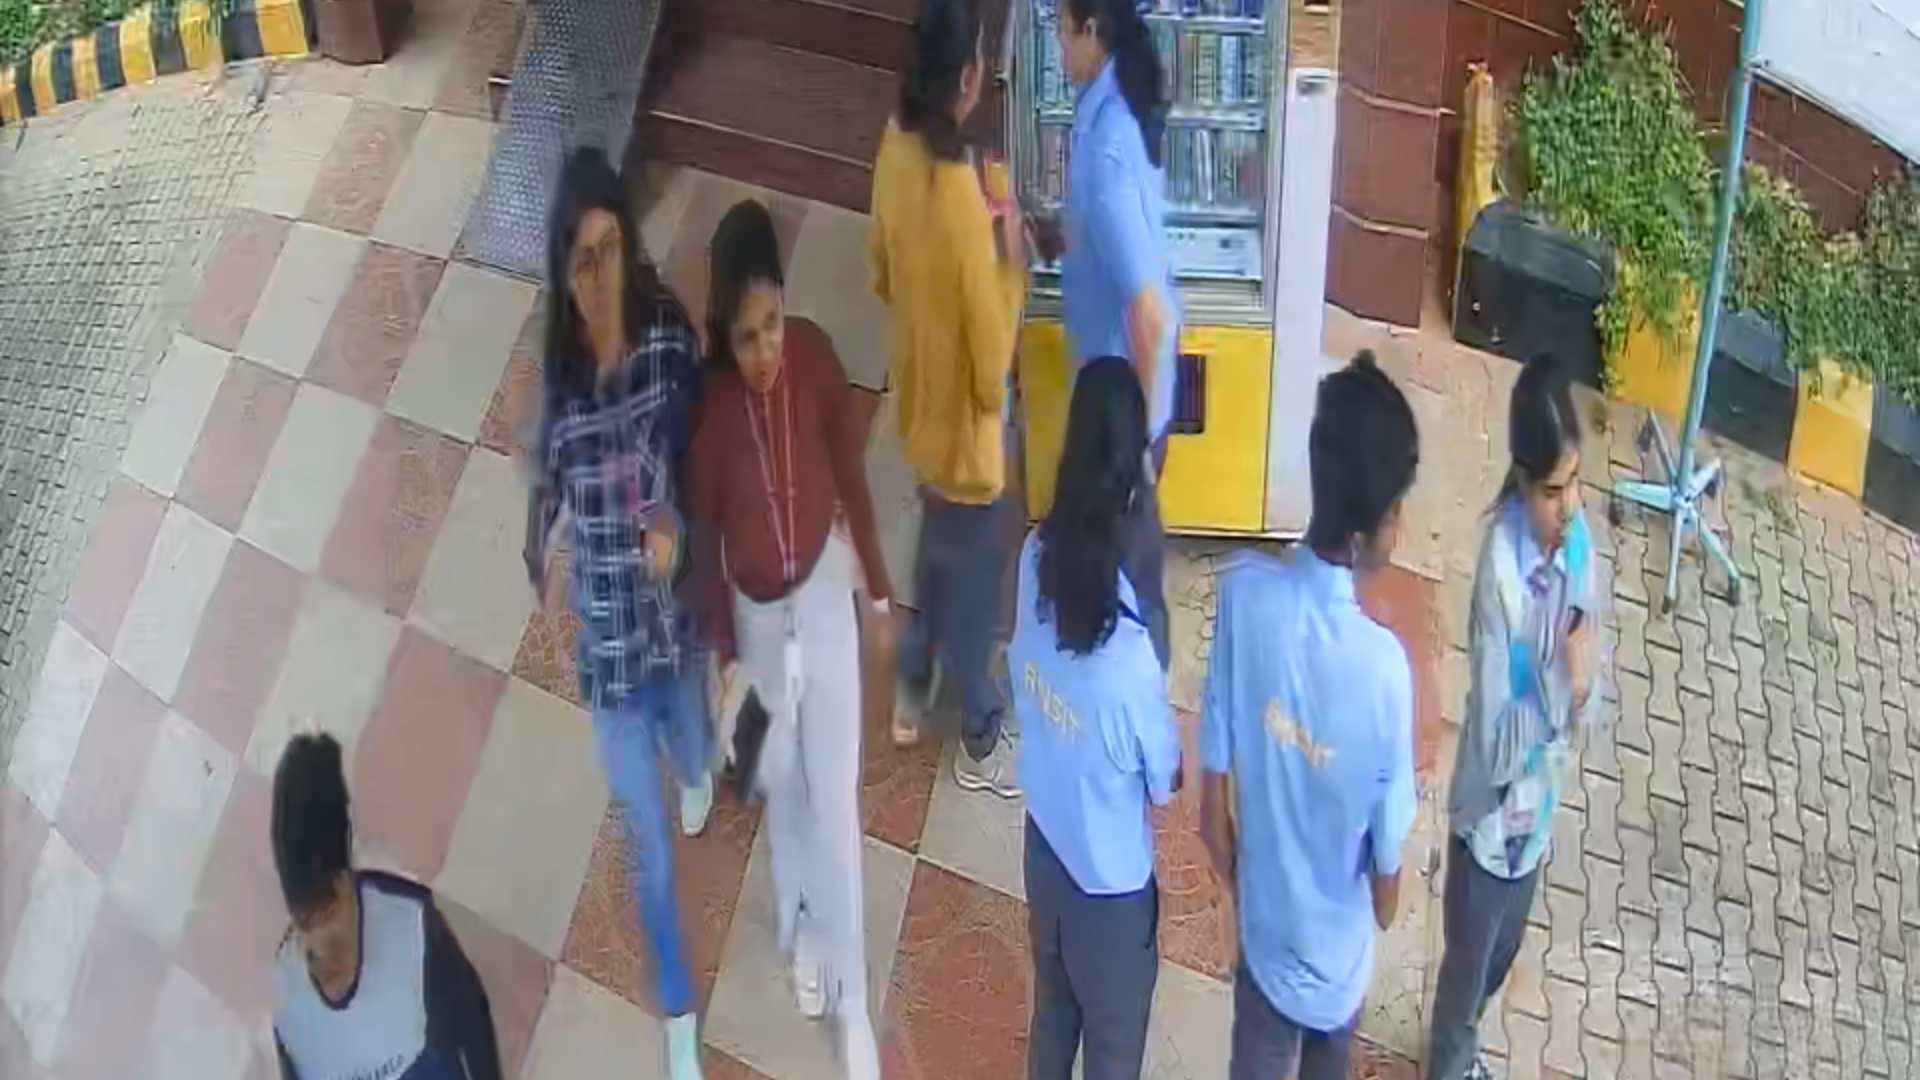intruder: (508, 154, 752, 1080)
not intruder: (674, 206, 945, 1080)
